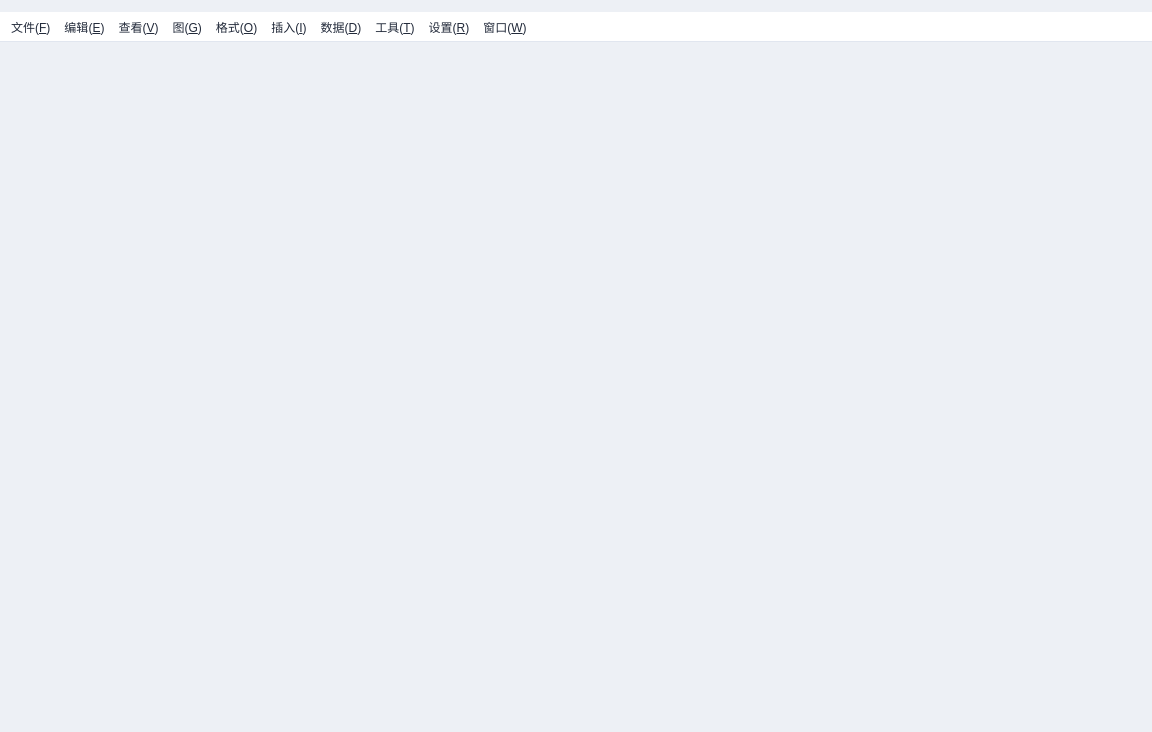
Test case: OriginMenuBar › keeps menu entries without an implemented command disabled
This screenshot has width=1152, height=732.
Click the button "文件(F)" at (31,26), box [4,12,57,40]
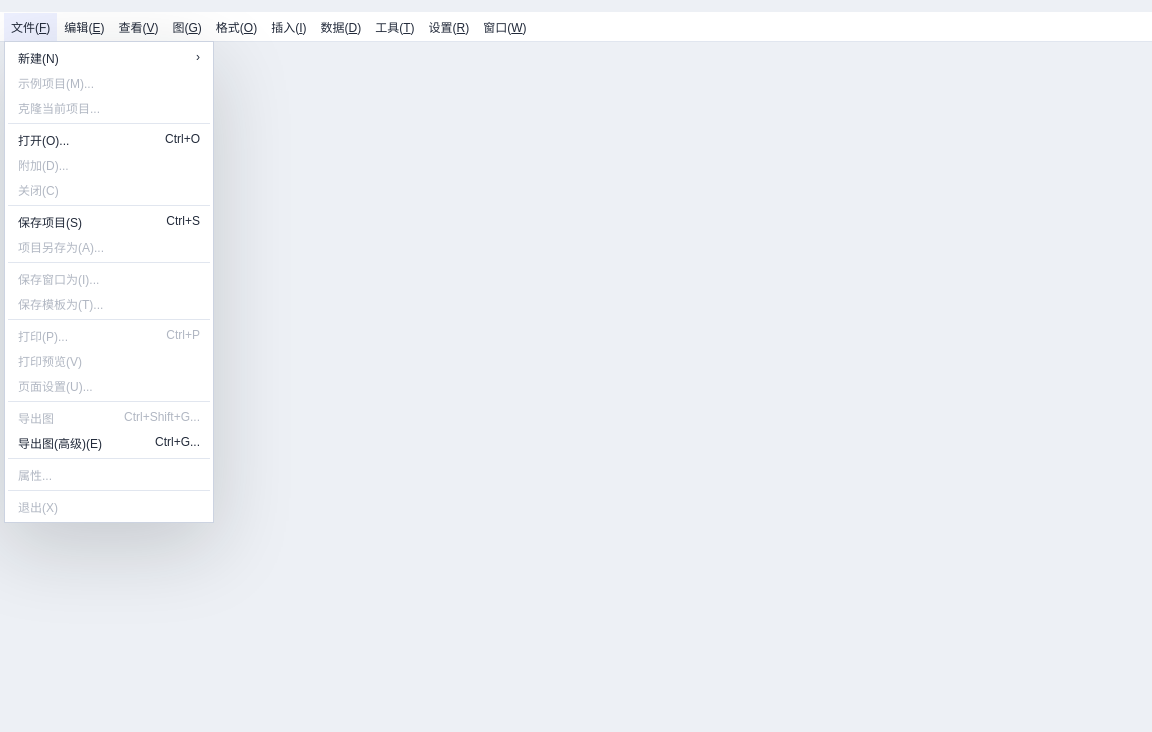
Expected: the menu item "打印(P)... Ctrl+P" is disabled, [8,322,210,348]
